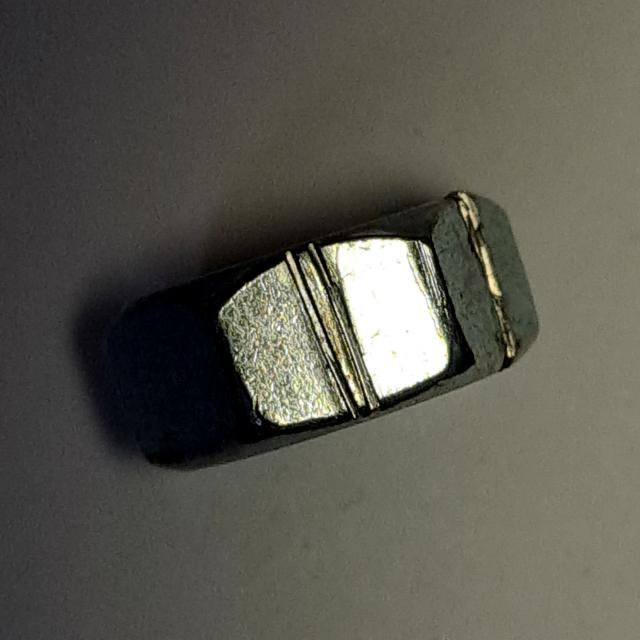Side_Scratches: (91, 179, 550, 489)
